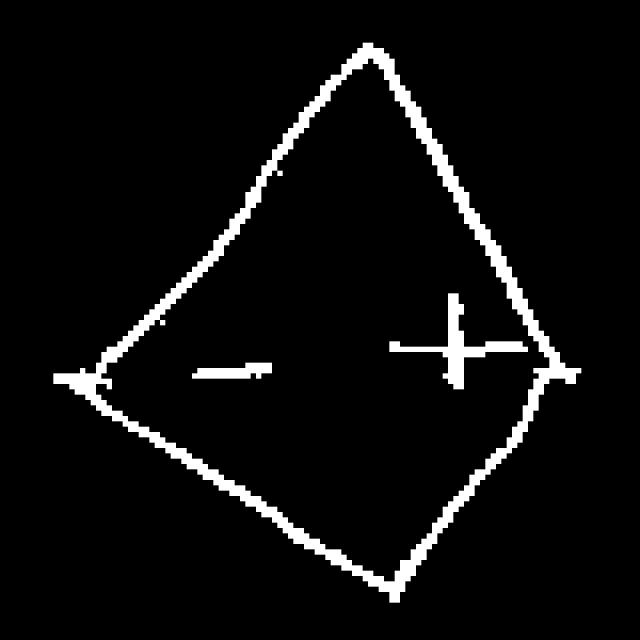dependant_voltage: (69, 35, 546, 604)
